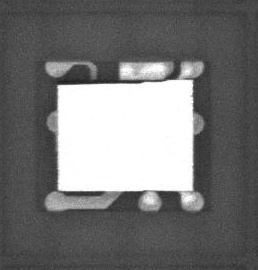DIE_BROKEN: (56, 78, 146, 84)
